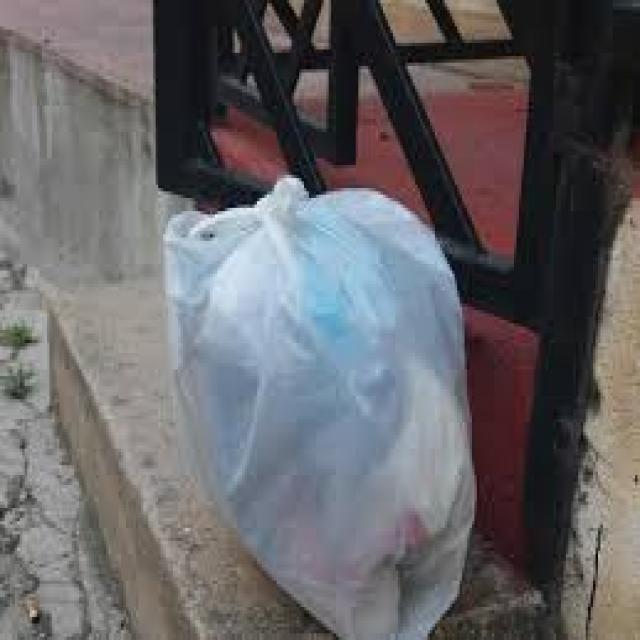sampah-detection: (142, 164, 484, 640)
